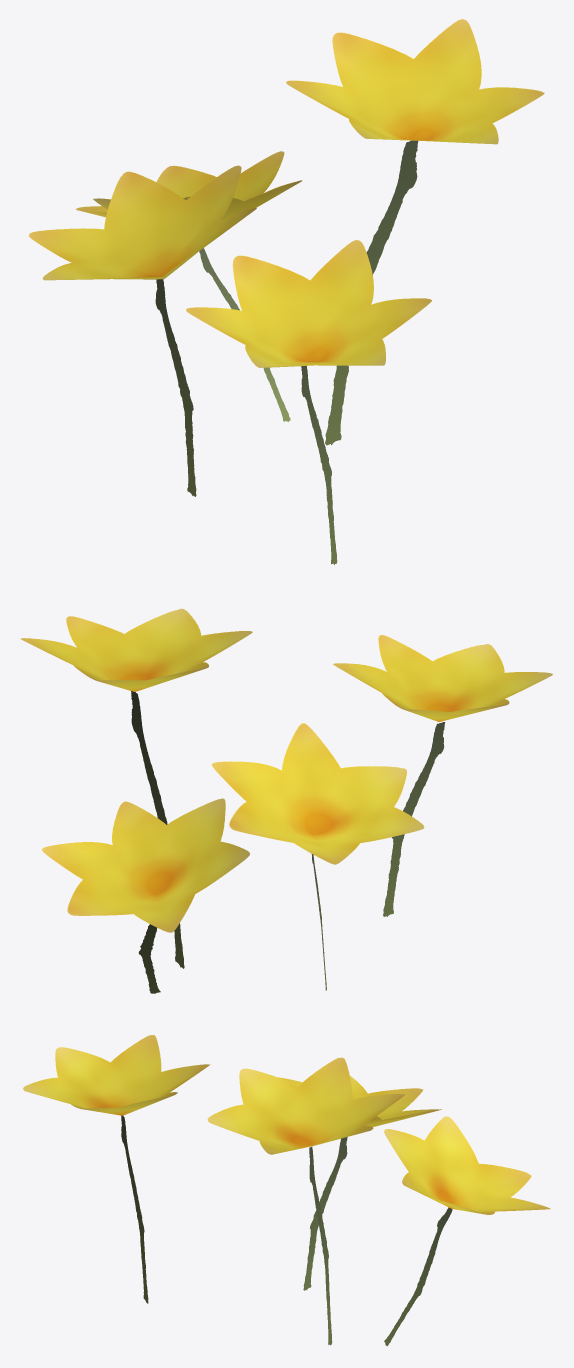
File: flower_generic-yellow.fbx
3 views of the same model, one above another, from view 1: azimuth 30°, elevation 25°; view 2: azimuth 150°, elevation 25°; view 3: azimuth 270°, elevation 25° (orthographic). The views are drawn at different scales.
Parts seen in each view (by area): view 1: flower_generic_yellow; view 2: flower_generic_yellow; view 3: flower_generic_yellow.
Part boxes in pixels (x1,y1,x2,y2): flower_generic_yellow: (29,19,544,564); flower_generic_yellow: (20,608,552,993); flower_generic_yellow: (23,1035,550,1345).
Bounding box in the file's own units: 45.7 × 34.4 × 60.02.
